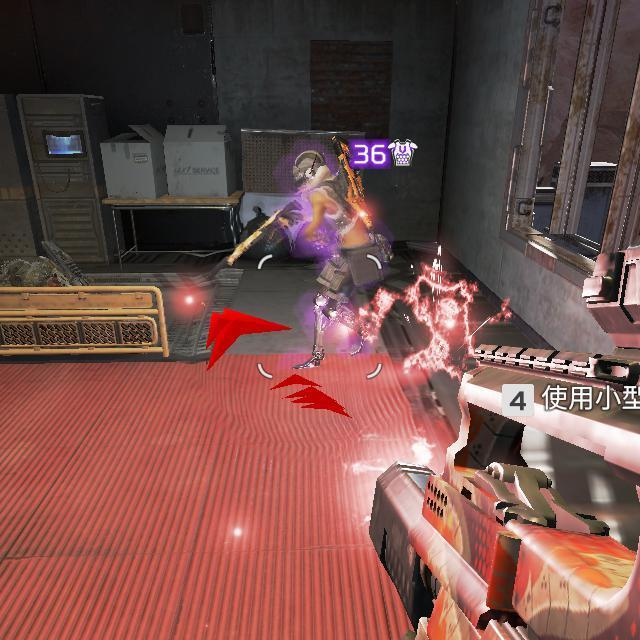avatar: (287, 143, 394, 372)
